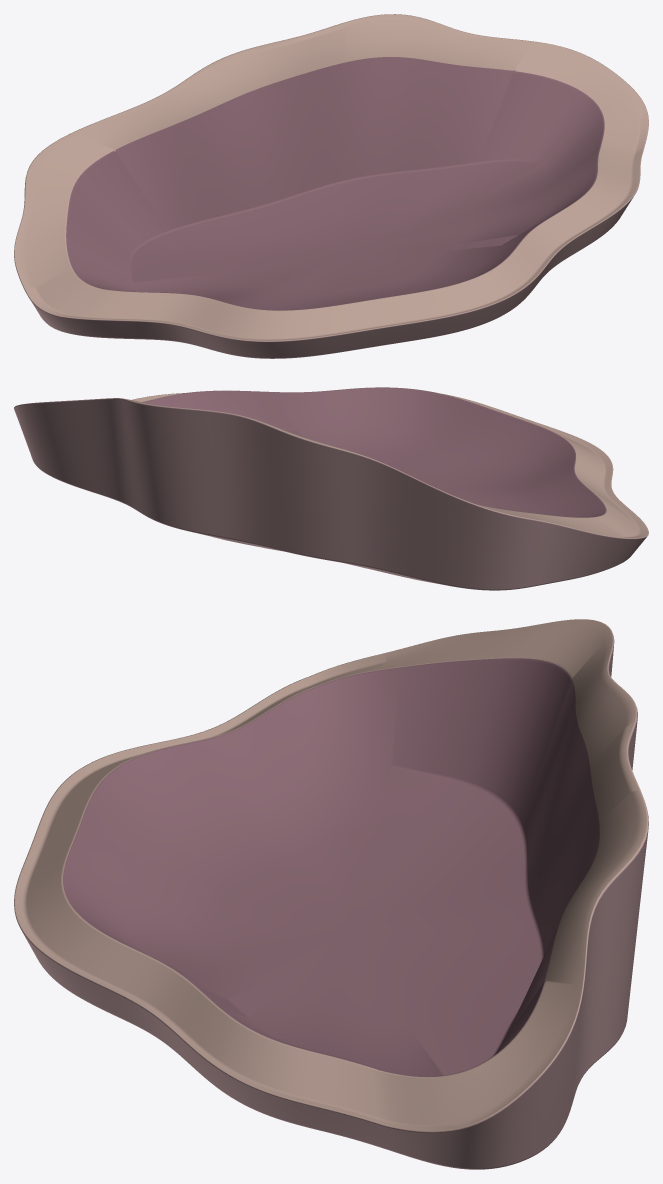
The model's file is silt-fold-catchall.glb.
The picture shows the model from 3 angles, top to bottom: view 1: azimuth 30°, elevation 25°; view 2: azimuth 150°, elevation 25°; view 3: azimuth 270°, elevation 25°; orthographic projection. The views are drawn at different scales.
Parts seen in each view (by area): view 1: one_piece_open_catchall; view 2: one_piece_open_catchall; view 3: one_piece_open_catchall.
Boxes of the visible parts, <box> form: one_piece_open_catchall: <box>14,14,648,358</box>; one_piece_open_catchall: <box>14,387,648,590</box>; one_piece_open_catchall: <box>14,619,648,1169</box>.
Bounding box in the file's own units: 239 × 53.34 × 133.
